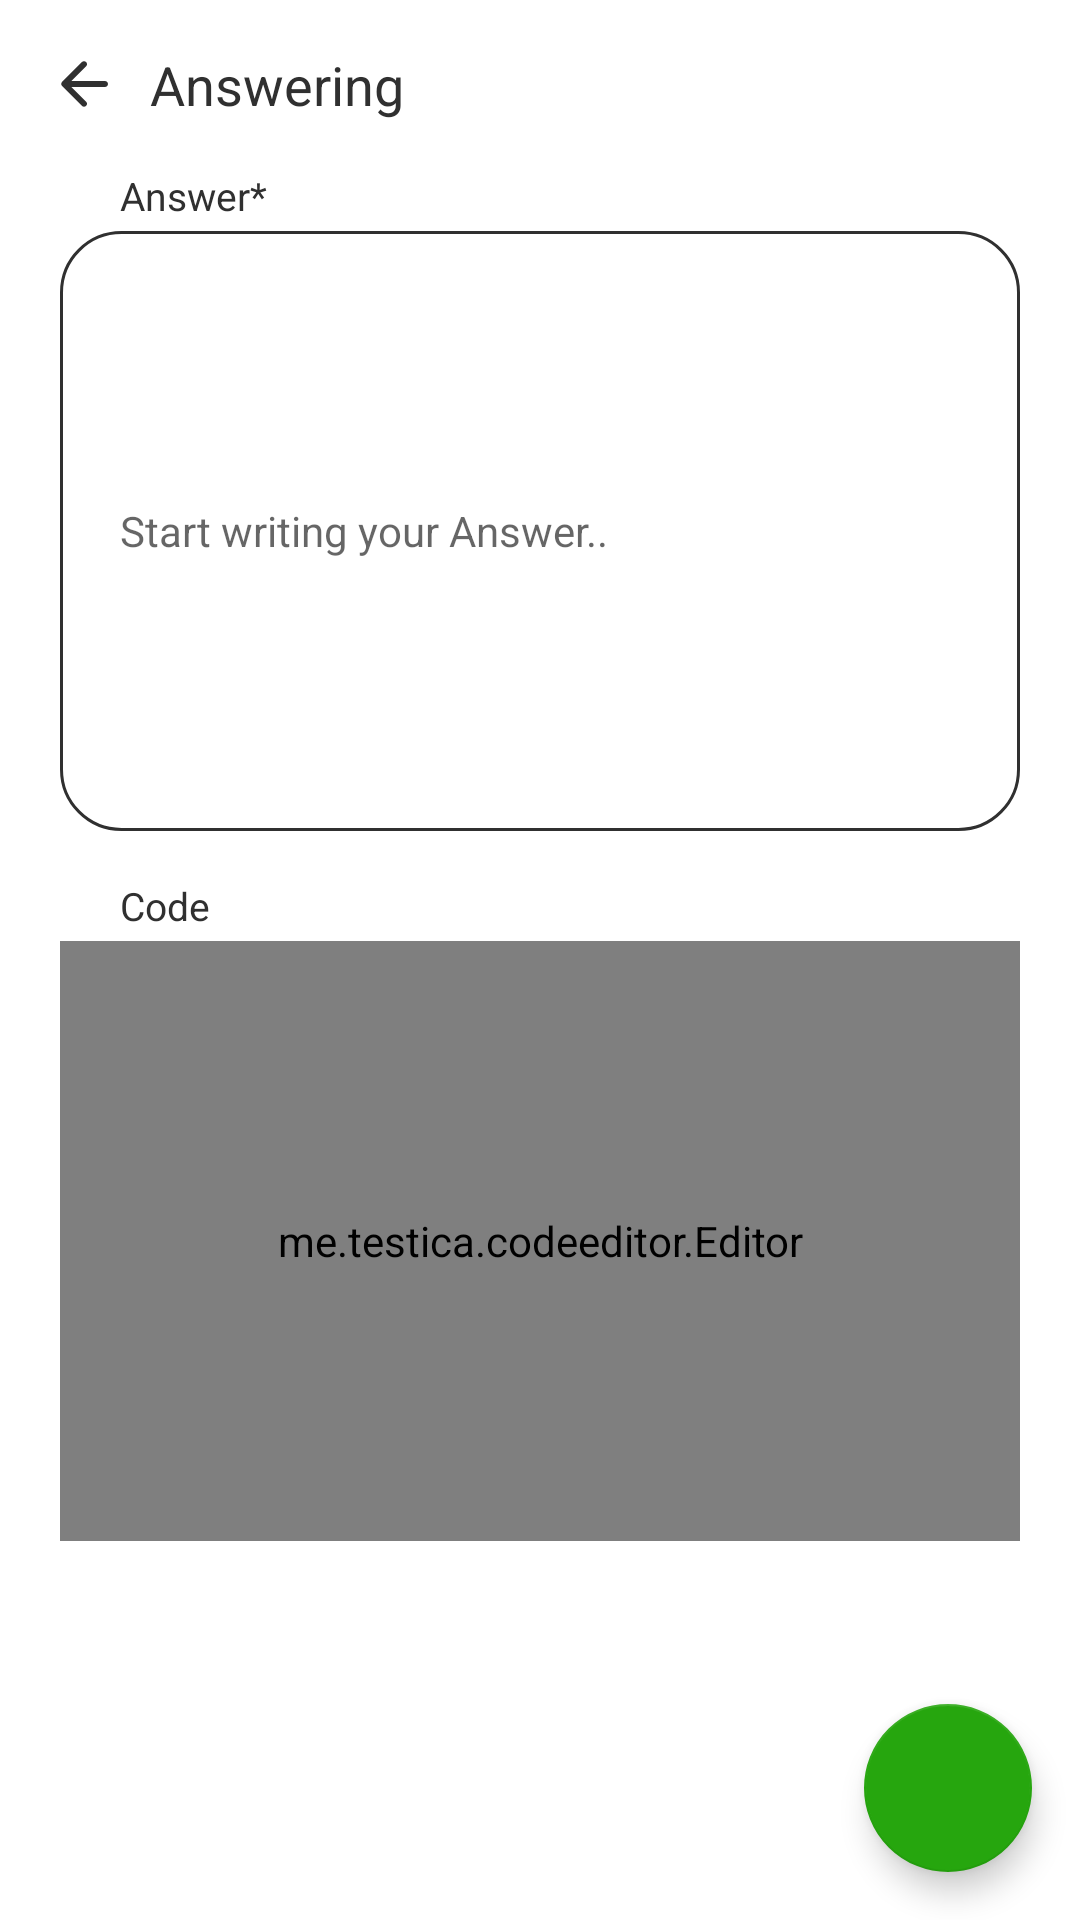

Named icons in this screenshot (1080*1920) and their bounding boxes, (x1, y1, x2, y2):
back arrow: (61, 61, 108, 107)
